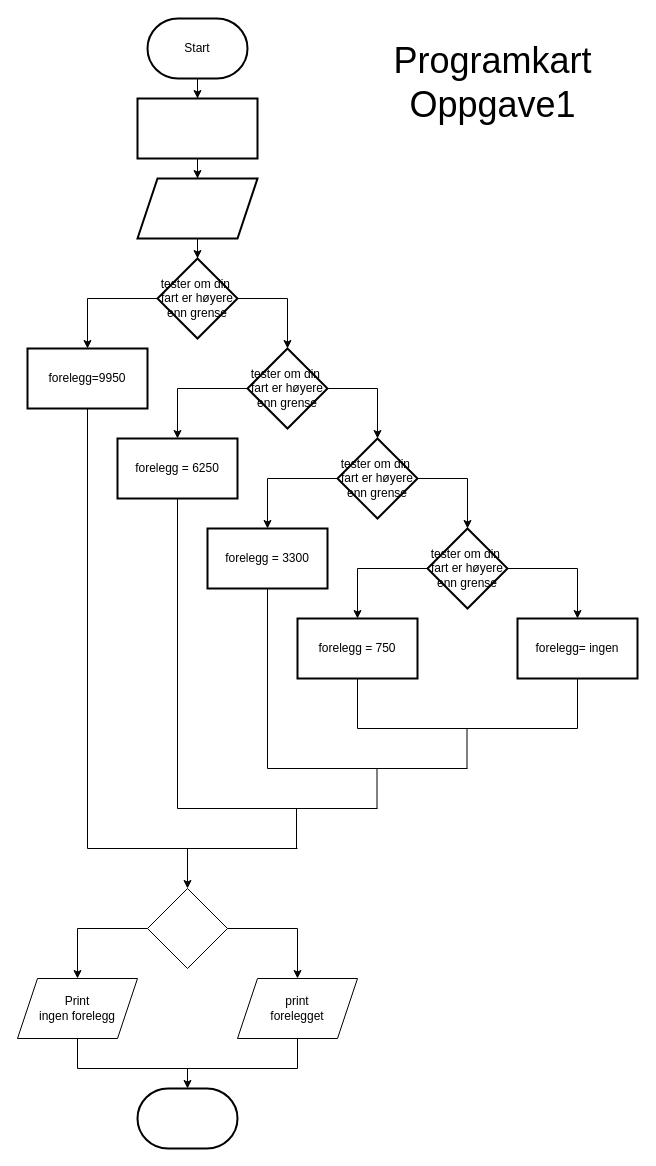
Some shapes in this 656 by 1166 pixel diagram are drawn without their labels. The box of each missing label's shape, as (x1, y1, x2, y2) in pixels:
fartsgrense=70: (136, 97, 258, 159)
Henter din fart: (136, 177, 258, 239)
if forelegg == ingen: (146, 888, 228, 968)
Slutt: (136, 1087, 238, 1149)
